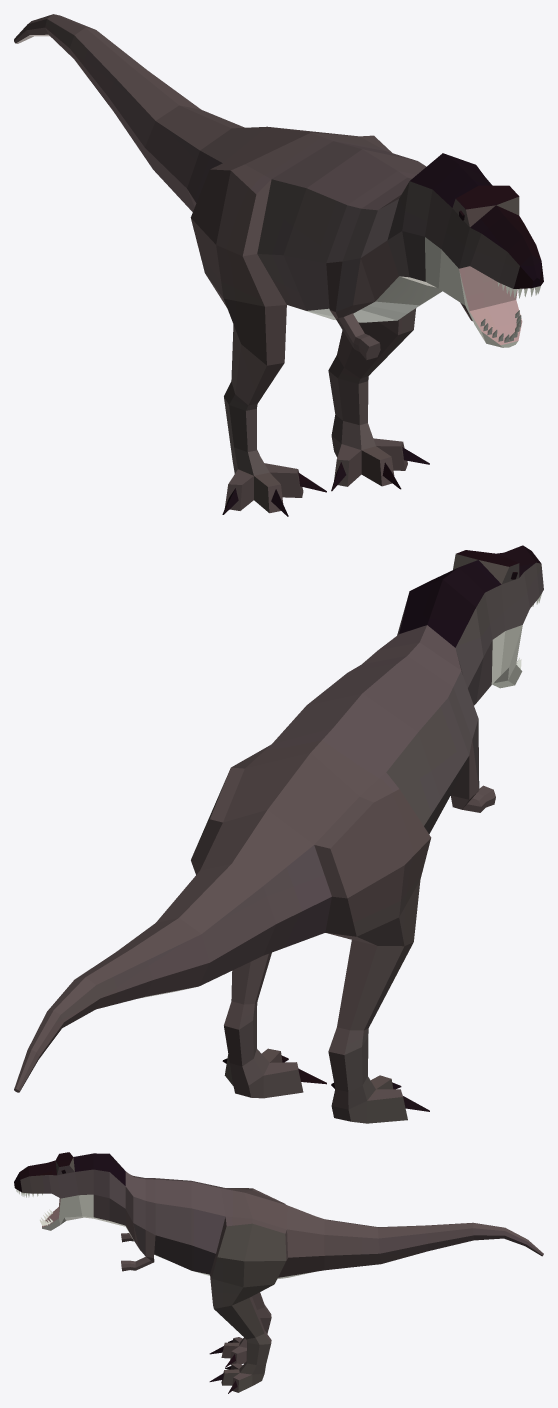
Rendered from 9GyZw9gGPMq.glb.
3 renders of one model, top to bottom at view 1: azimuth 30°, elevation 25°; view 2: azimuth 150°, elevation 25°; view 3: azimuth 270°, elevation 25°, orthographic. The views are drawn at different scales.
Parts seen in each view (by area): view 1: Geo_Dinosaur; view 2: Geo_Dinosaur; view 3: Geo_Dinosaur.
Boxes of the visible parts, x1,y1,x2,y2 form: Geo_Dinosaur: [14, 14, 543, 516]; Geo_Dinosaur: [14, 545, 543, 1123]; Geo_Dinosaur: [14, 1152, 543, 1393].
Size of the model in its own units: 0.5095 by 1 by 2.22.
Materials: 1 (1 with a texture image).
